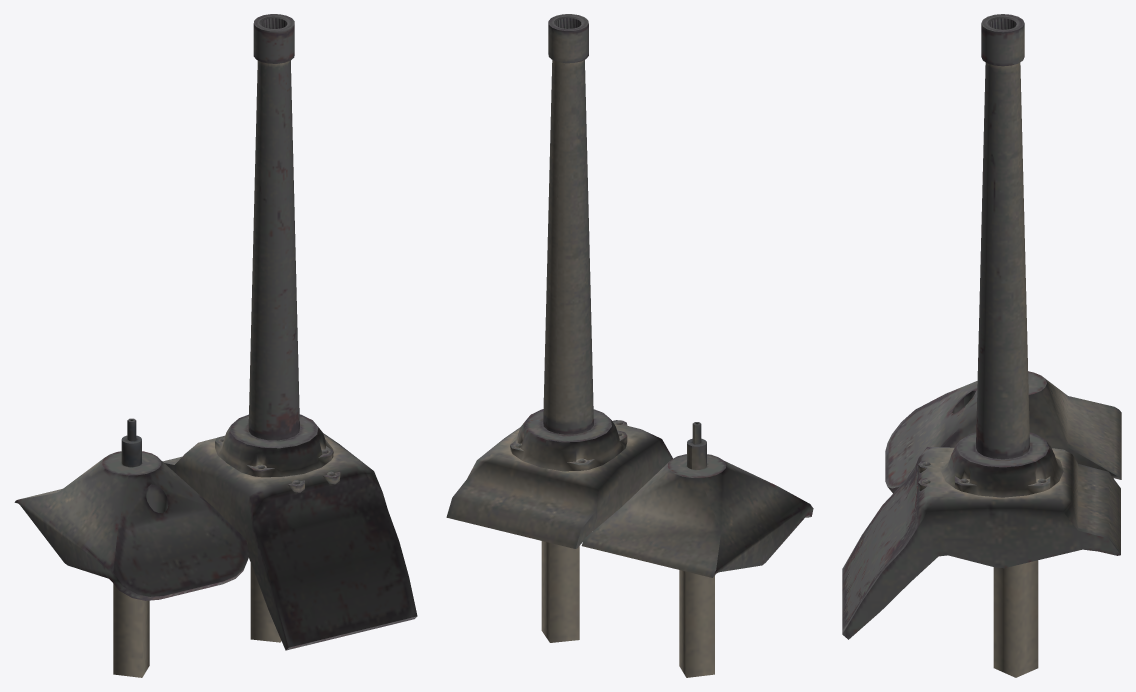
File: Gun_01.glb
The picture shows the model from 3 angles, left to right: view 1: azimuth 30°, elevation 25°; view 2: azimuth 150°, elevation 25°; view 3: azimuth 270°, elevation 25°; orthographic projection. The views are drawn at different scales.
Parts seen in each view (by area): view 1: set_0_group_0; view 2: set_0_group_0; view 3: set_0_group_0.
Boxes of the visible parts, left/top/right/bottom form: set_0_group_0: left=14, top=14, right=417, bottom=677; set_0_group_0: left=446, top=14, right=813, bottom=677; set_0_group_0: left=842, top=14, right=1121, bottom=677.
Bounding box in the file's own units: 0.5539 × 1.21 × 0.4746.
1 material, 1 textured.
